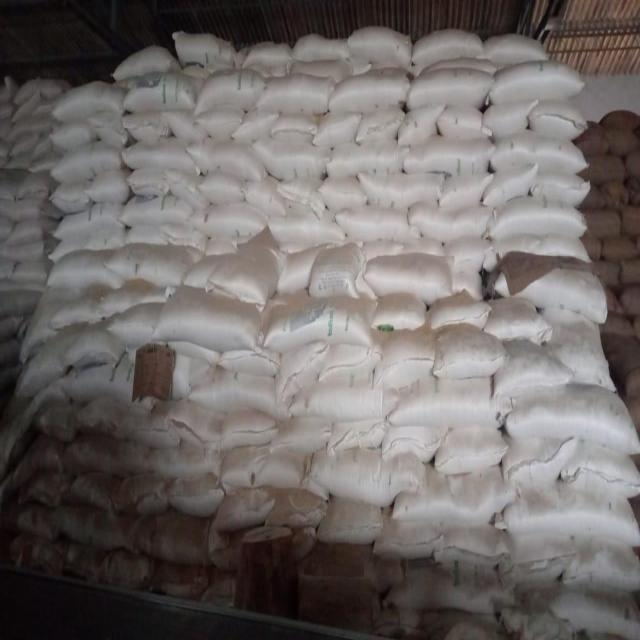gunny_bag: (509, 383, 639, 453), (498, 485, 640, 543), (151, 283, 262, 352), (494, 256, 605, 324), (393, 464, 519, 522), (263, 295, 378, 353), (385, 564, 515, 613), (309, 451, 427, 503), (532, 583, 639, 636), (391, 377, 503, 426), (57, 354, 155, 410), (548, 310, 614, 393), (189, 369, 293, 420), (208, 243, 288, 308), (48, 498, 139, 555), (135, 510, 227, 563), (14, 328, 83, 398), (298, 541, 403, 587), (495, 340, 573, 401), (292, 378, 399, 421), (20, 292, 83, 363), (562, 440, 640, 497), (486, 59, 584, 104), (486, 196, 585, 239), (299, 577, 380, 628), (499, 535, 578, 586), (105, 242, 194, 286), (436, 322, 506, 377), (491, 132, 587, 172), (372, 331, 437, 390), (407, 66, 494, 110), (364, 256, 454, 298), (403, 136, 496, 176), (63, 435, 149, 478), (221, 450, 311, 491), (187, 138, 268, 183), (328, 68, 406, 114), (565, 538, 640, 585), (503, 439, 578, 485), (374, 609, 489, 639), (125, 70, 204, 112), (253, 137, 331, 179), (51, 79, 127, 122), (47, 250, 123, 293), (409, 203, 492, 242), (435, 428, 508, 472), (122, 135, 200, 176), (319, 496, 384, 545), (321, 329, 386, 378), (309, 244, 366, 299), (358, 172, 444, 208), (114, 399, 179, 446), (50, 141, 124, 182), (327, 141, 409, 178), (339, 206, 421, 243), (436, 526, 510, 567), (194, 70, 266, 112), (276, 242, 334, 294), (62, 319, 123, 368), (167, 400, 227, 449), (277, 343, 329, 399), (9, 440, 65, 492), (97, 280, 173, 318), (215, 486, 275, 533), (259, 75, 335, 112), (189, 203, 268, 238), (266, 211, 346, 245), (487, 299, 551, 341), (49, 231, 128, 265), (108, 303, 166, 348), (426, 288, 488, 330), (413, 29, 483, 66), (164, 474, 224, 517), (52, 204, 125, 239), (110, 474, 169, 516), (146, 447, 223, 479), (375, 523, 443, 558), (483, 165, 538, 208), (351, 28, 411, 67), (528, 99, 586, 139), (220, 410, 281, 448), (112, 47, 181, 80), (268, 491, 329, 528), (8, 534, 63, 575), (381, 427, 449, 460), (327, 418, 389, 454), (174, 33, 237, 68), (55, 539, 104, 584), (482, 100, 540, 138), (118, 197, 191, 227), (606, 332, 640, 396), (439, 171, 494, 209), (476, 34, 548, 63), (97, 552, 155, 587), (373, 291, 425, 330), (278, 178, 326, 220), (271, 417, 332, 450), (72, 399, 127, 434), (17, 470, 69, 507), (243, 174, 287, 217), (398, 104, 444, 145), (150, 564, 210, 595), (313, 110, 361, 148), (531, 172, 589, 203), (217, 349, 281, 377), (444, 237, 493, 273), (166, 170, 209, 211), (602, 109, 640, 155), (193, 106, 243, 140), (438, 108, 491, 140), (318, 176, 365, 212), (5, 507, 57, 539), (356, 109, 405, 142), (198, 170, 244, 205), (294, 35, 352, 62), (51, 298, 100, 329), (71, 476, 118, 508), (161, 111, 209, 142), (186, 253, 224, 292), (38, 403, 79, 439), (234, 109, 280, 141), (50, 181, 93, 215), (7, 218, 58, 246), (87, 170, 131, 202), (5, 114, 54, 142), (161, 224, 209, 252), (236, 44, 292, 68), (50, 121, 95, 150), (272, 112, 317, 140), (126, 113, 169, 142), (0, 199, 61, 219), (128, 170, 171, 198), (585, 155, 625, 184), (96, 115, 131, 147), (577, 119, 608, 155), (1, 289, 41, 315), (7, 261, 52, 284), (9, 240, 56, 262), (602, 235, 639, 262), (586, 208, 620, 237), (15, 171, 50, 199), (593, 259, 622, 288), (126, 225, 168, 245), (602, 180, 628, 210), (12, 92, 37, 123), (9, 135, 39, 155), (1, 316, 24, 340), (581, 186, 604, 207), (585, 235, 602, 259)
